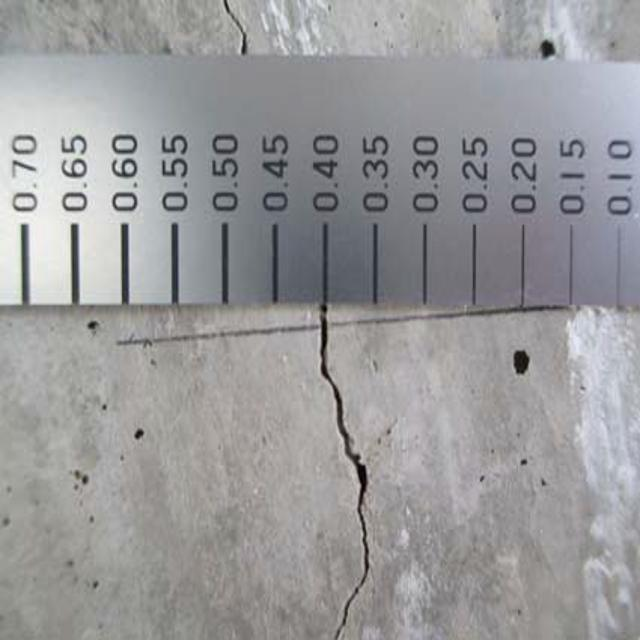crack: (298, 305, 415, 640), (200, 0, 277, 67)
